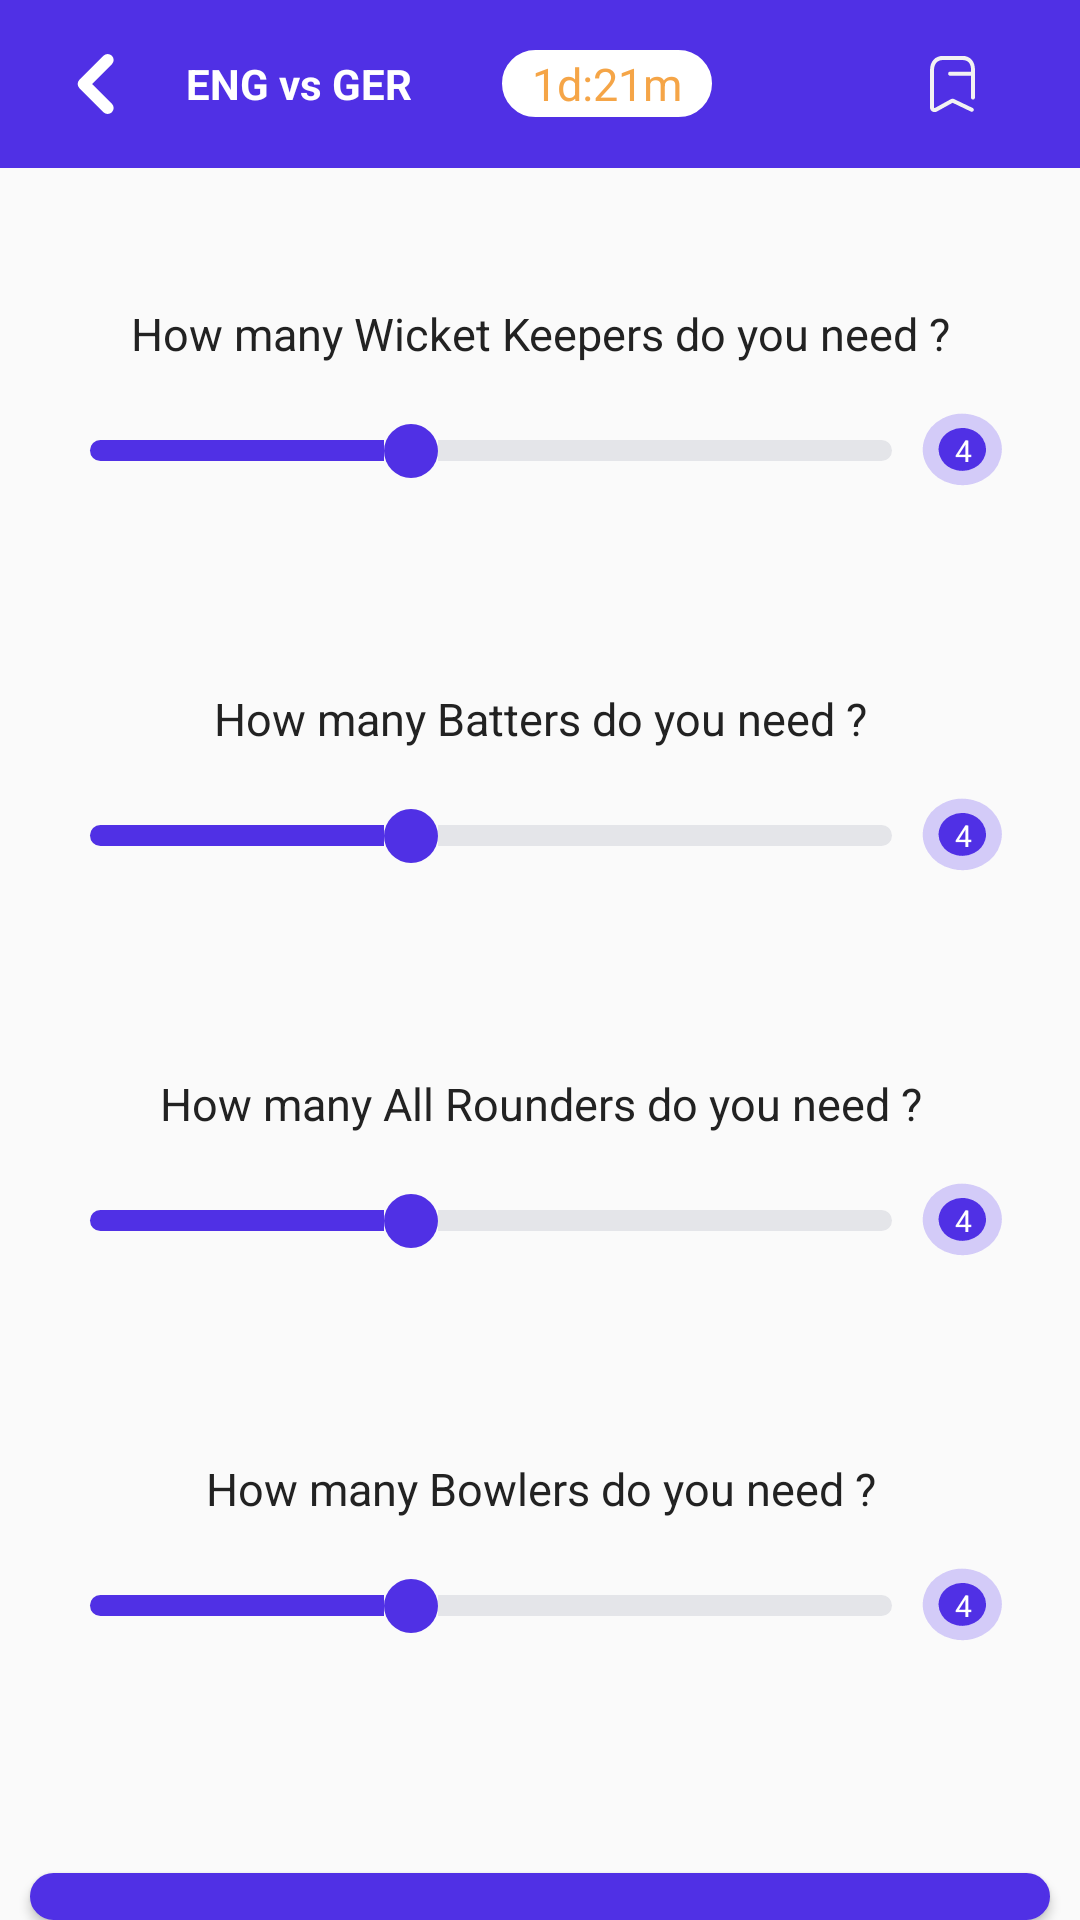

Point at icon controls on the screen. Image size 1080 × 1920, points as (x,y).
back arrow: (95,84)
bookmark: (952,84)
